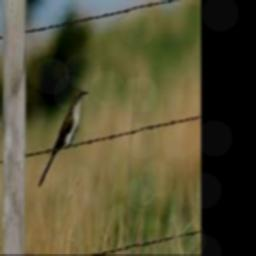Cuckoo: (39, 89, 89, 187)
